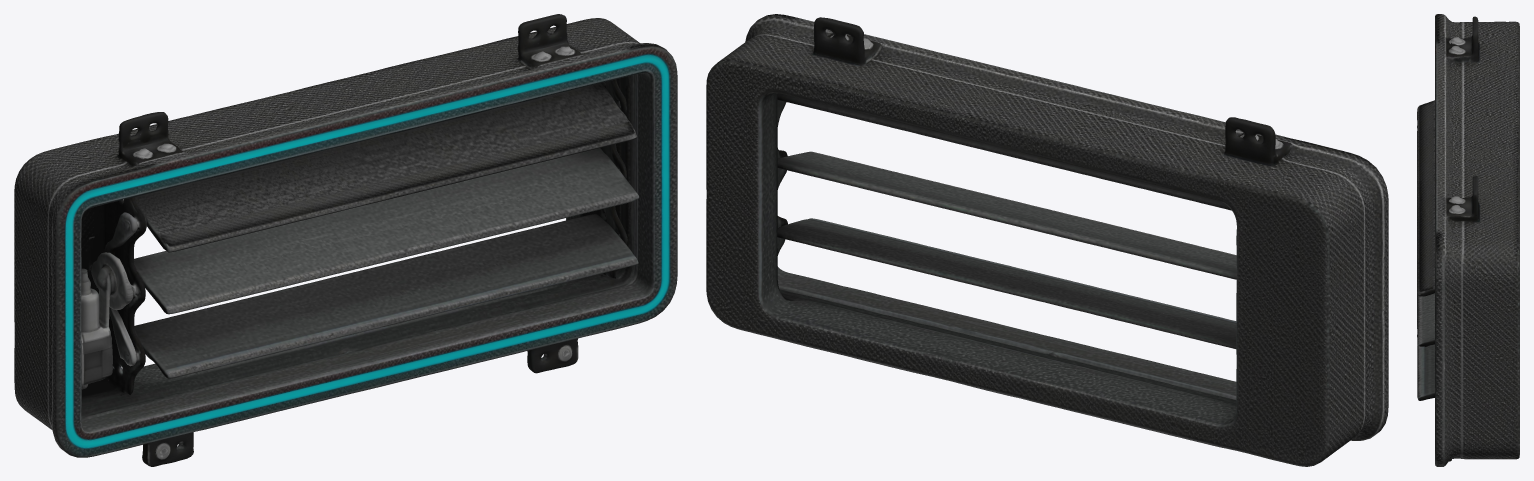
Rendered from tripo_convert_e8f538ae-19bb-403b-a568-160b2fa94512.fbx.
3 renders of one model, left to right at view 1: azimuth 30°, elevation 25°; view 2: azimuth 150°, elevation 25°; view 3: azimuth 270°, elevation 25°, orthographic. The views are drawn at different scales.
Parts seen in each view (by area): view 1: tripo_node_e8f538ae; view 2: tripo_node_e8f538ae; view 3: tripo_node_e8f538ae.
Part boxes in pixels (x1=…): tripo_node_e8f538ae: x1=14, y1=14, x2=677, y2=466; tripo_node_e8f538ae: x1=706, y1=14, x2=1388, y2=466; tripo_node_e8f538ae: x1=1417, y1=14, x2=1519, y2=466.
Bounding box in the file's own units: 0.9786 × 0.5026 × 0.1712.
Materials: 1 (1 with a texture image).
